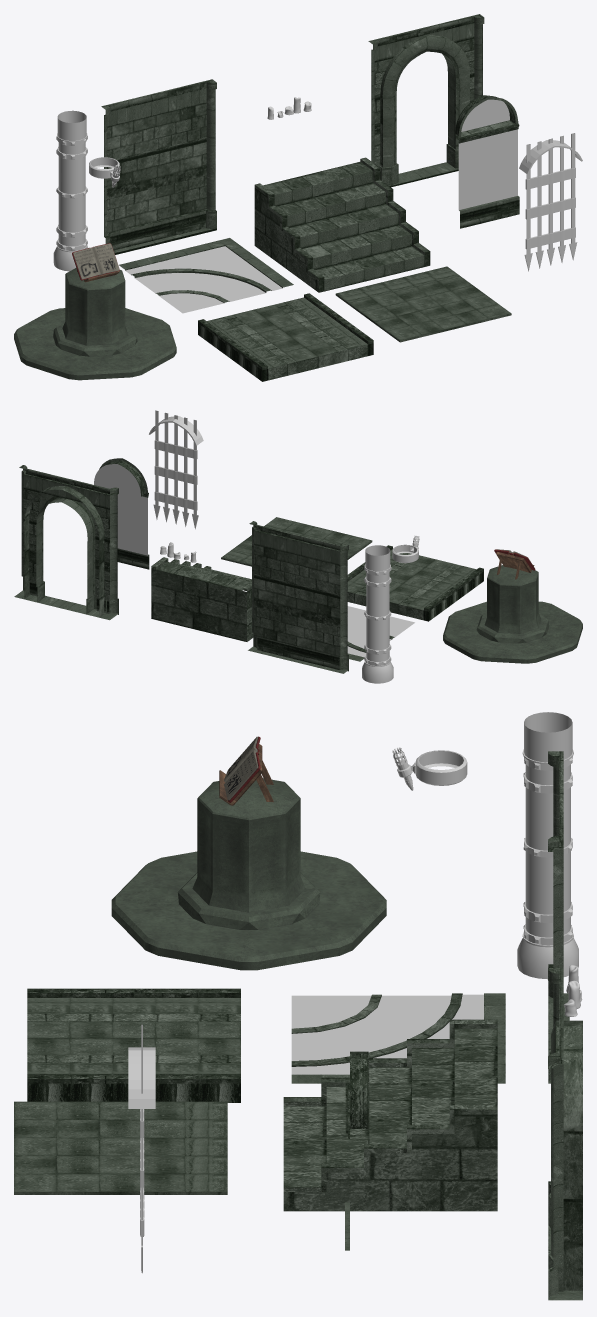
Rendered from Modular Props Spread.fbx.
3 renders of one model, top to bottom at view 1: azimuth 30°, elevation 25°; view 2: azimuth 150°, elevation 25°; view 3: azimuth 270°, elevation 25°, orthographic. The views are drawn at different scales.
Parts seen in each view (by area): view 1: Wall_10, Stairs_3, Altar_and_Book_2, Door_6, Hallway_Path_3, Floor_Section_3, Floor_Quarter_Section_5, Alcove_4, Pillar_6, Portcullis_3, Torch_5; view 2: Wall_10, Altar_and_Book_2, Door_6, Stairs_3, Hallway_Path_3, Alcove_4, Pillar_6, Portcullis_3, Floor_Section_3, Floor_Quarter_Section_5, Torch_5; view 3: Altar_and_Book_2, Stairs_3, Hallway_Path_3, Floor_Section_3, Floor_Quarter_Section_5, Pillar_6, Door_6, Wall_10, Portcullis_3, Torch_5, Alcove_4.
Boxes of the visible parts, x1=… form: Wall_10: x1=101, y1=79, x2=216, y2=254; Stairs_3: x1=254, y1=157, x2=430, y2=292; Altar_and_Book_2: x1=14, y1=243, x2=176, y2=380; Door_6: x1=368, y1=14, x2=484, y2=187; Hallway_Path_3: x1=198, y1=293, x2=373, y2=381; Floor_Section_3: x1=335, y1=266, x2=511, y2=342; Floor_Quarter_Section_5: x1=119, y1=238, x2=293, y2=313; Alcove_4: x1=455, y1=95, x2=519, y2=228; Pillar_6: x1=53, y1=110, x2=87, y2=271; Portcullis_3: x1=519, y1=133, x2=582, y2=271; Torch_5: x1=89, y1=157, x2=120, y2=187; Wall_10: x1=248, y1=521, x2=348, y2=673; Altar_and_Book_2: x1=443, y1=549, x2=582, y2=663; Door_6: x1=14, y1=465, x2=118, y2=620; Stairs_3: x1=151, y1=557, x2=253, y2=641; Hallway_Path_3: x1=347, y1=545, x2=483, y2=621; Alcove_4: x1=94, y1=458, x2=149, y2=569; Pillar_6: x1=362, y1=545, x2=393, y2=683; Portcullis_3: x1=149, y1=410, x2=203, y2=529; Floor_Section_3: x1=221, y1=517, x2=372, y2=566; Floor_Quarter_Section_5: x1=347, y1=606, x2=414, y2=661; Torch_5: x1=392, y1=535, x2=419, y2=563; Altar_and_Book_2: x1=111, y1=736, x2=386, y2=970; Stairs_3: x1=283, y1=1019, x2=497, y2=1211; Hallway_Path_3: x1=27, y1=988, x2=240, y2=1102; Floor_Section_3: x1=14, y1=1101, x2=227, y2=1194; Floor_Quarter_Section_5: x1=291, y1=993, x2=505, y2=1083; Pillar_6: x1=517, y1=712, x2=578, y2=979; Door_6: x1=548, y1=968, x2=582, y2=1300; Wall_10: x1=548, y1=751, x2=569, y2=1083; Portcullis_3: x1=128, y1=1024, x2=155, y2=1273; Torch_5: x1=392, y1=747, x2=467, y2=790; Alcove_4: x1=345, y1=1051, x2=368, y2=1250.
Size of the model in its own units: 9.89 by 2.72 by 5.33.
